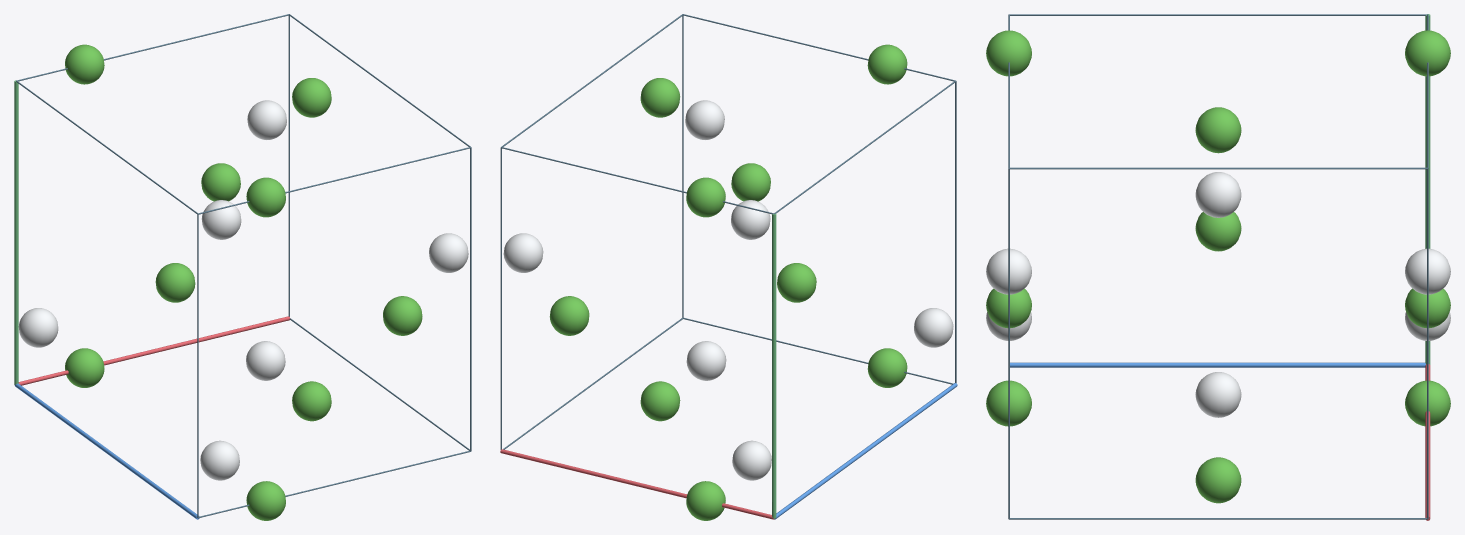
File: chat-solid-hydrogen-chloride.glb
3 views of the same model, side by side, from view 1: azimuth 30°, elevation 25°; view 2: azimuth 150°, elevation 25°; view 3: azimuth 270°, elevation 25° (orthographic). The views are drawn at different scales.
Visible parts, largest first — view 1: Cl · Cl · 1 (×9), Ô mạng và các trục a, b, c, H · H · 1 (×6); view 2: Cl · Cl · 1 (×9), Ô mạng và các trục a, b, c, H · H · 1 (×6); view 3: Cl · Cl · 1 (×9), Ô mạng và các trục a, b, c, H · H · 1 (×6).
Boxes of the visible parts, x1,y1,x2,y2 form: Cl · Cl · 1 (×9): [65, 44, 422, 520]; Ô mạng và các trục a, b, c: [14, 14, 471, 519]; H · H · 1 (×6): [18, 100, 468, 480]; Cl · Cl · 1 (×9): [549, 44, 907, 520]; Ô mạng và các trục a, b, c: [500, 14, 957, 519]; H · H · 1 (×6): [503, 100, 953, 480]; Cl · Cl · 1 (×9): [986, 30, 1450, 503]; Ô mạng và các trục a, b, c: [1008, 14, 1430, 520]; H · H · 1 (×6): [986, 172, 1450, 417].
Size of the model in its own units: 5.1 by 6.01 by 6.46.
